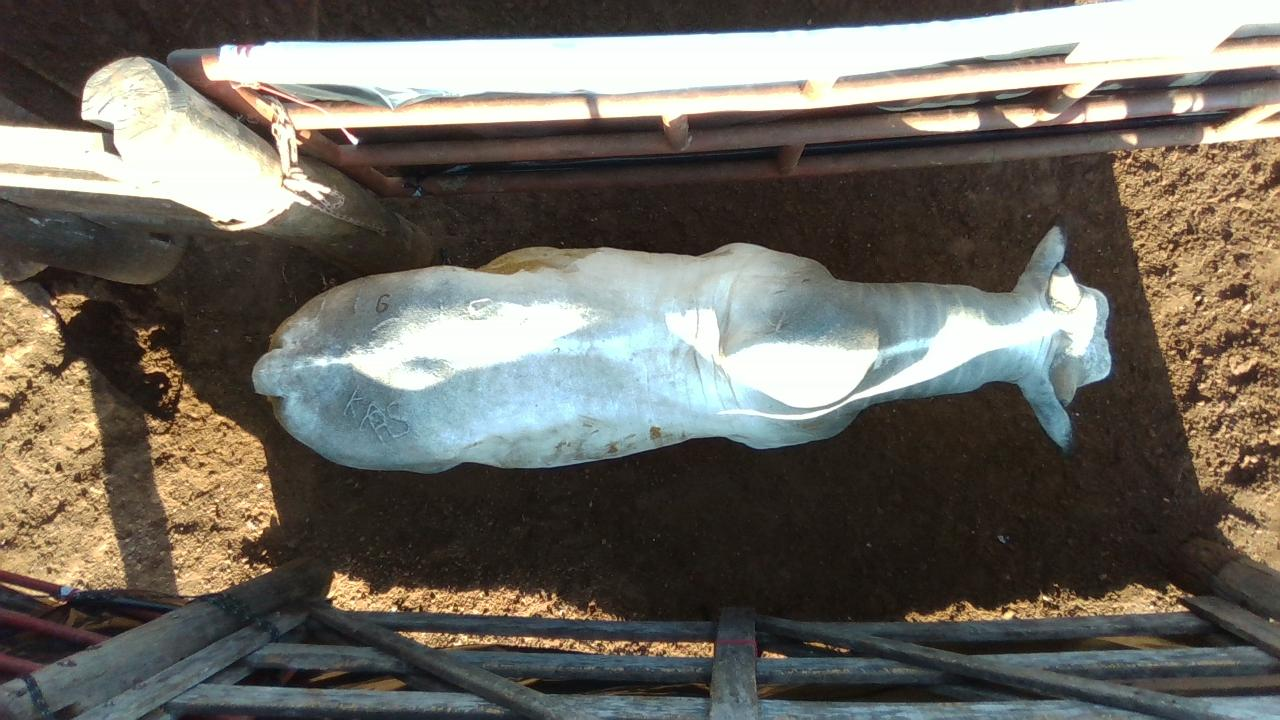cattle: (251, 216, 1112, 474)
